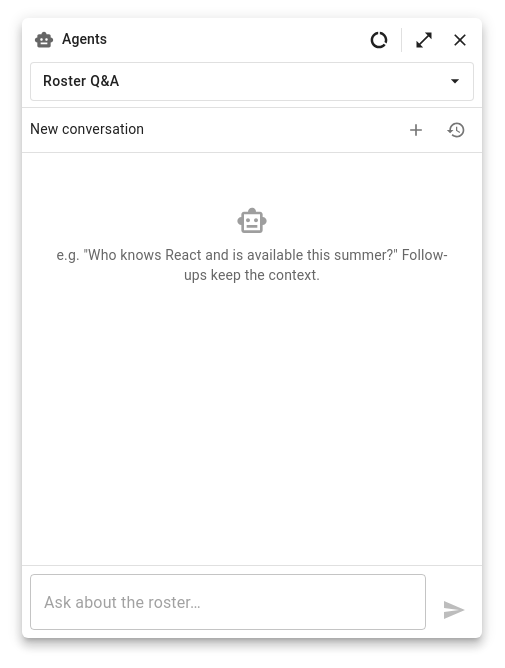
Test case: the surface header › shows the open conversation's title, ellipsized rather than wrapped
Step 1. Click the button named "Conversation history" → (456, 130), box [438,112,474,148]
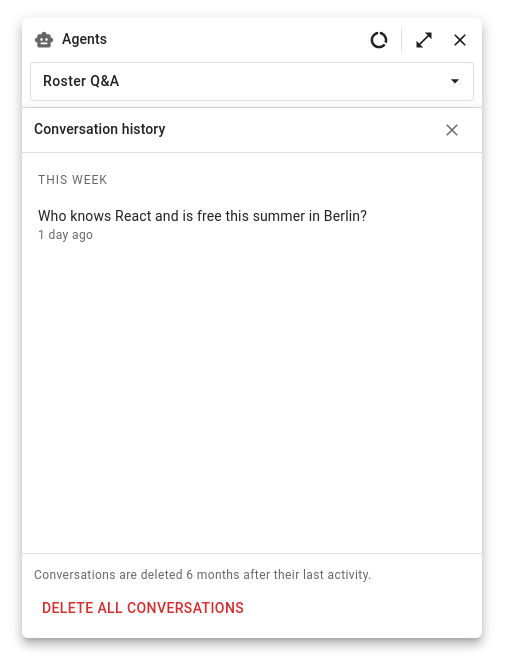
Step 2. Click the button "Who knows React and is free this summer in Berlin? 1 day ago" → (202, 225), box [38,208,367,242]
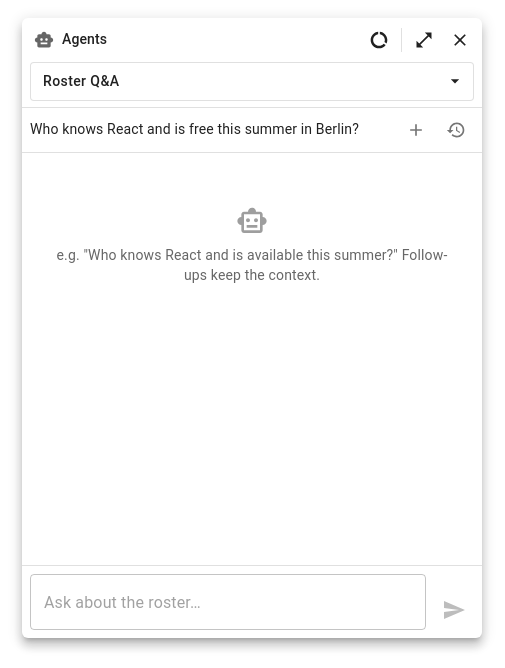
Now the text titled "Who knows React and is free this summer in Berlin?" is shown, box [30,120,394,140]
